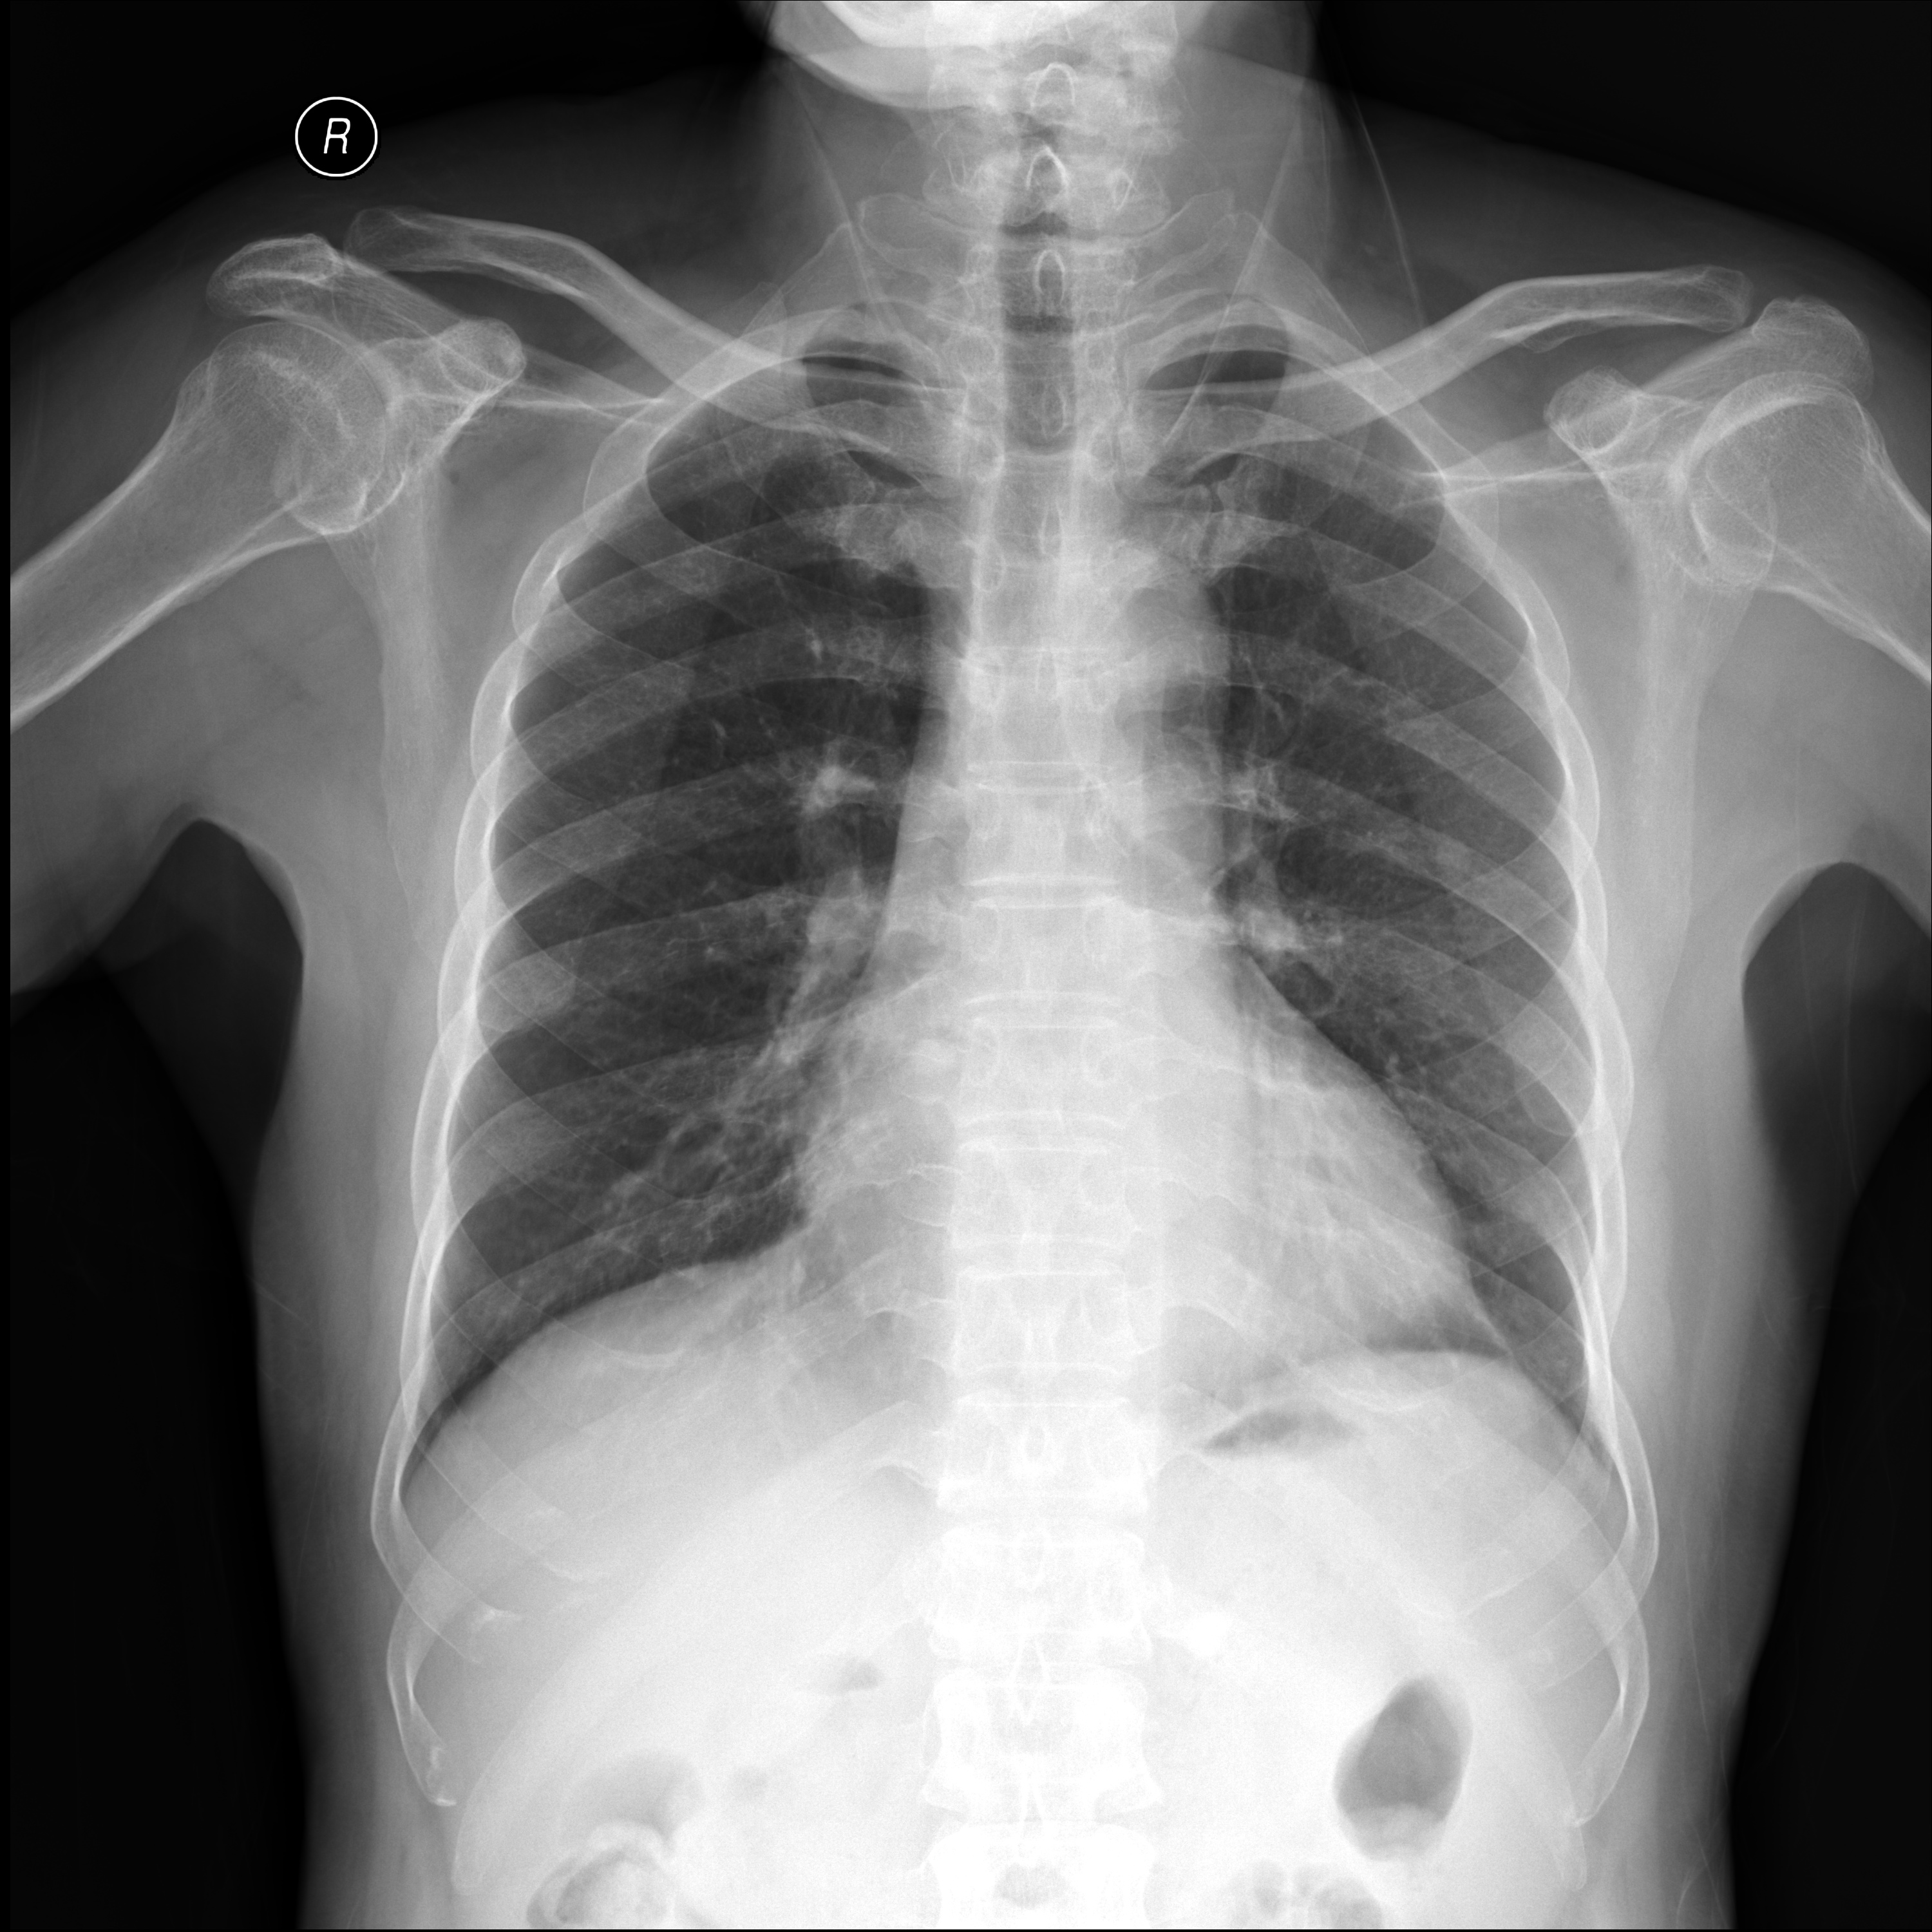nodule: (1396, 791, 1506, 906)
